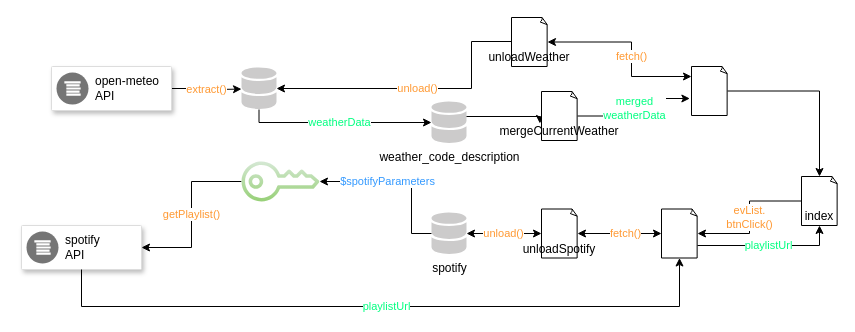
Some shapes in this 855 by 332 pixel diagram are drawn without their labels. Each missing label, with the centre of its shape:
"spotifyETL" belongs at point 679,233.
"weather" belongs at point 258,88.
"weatherETL" belongs at point 709,91.
